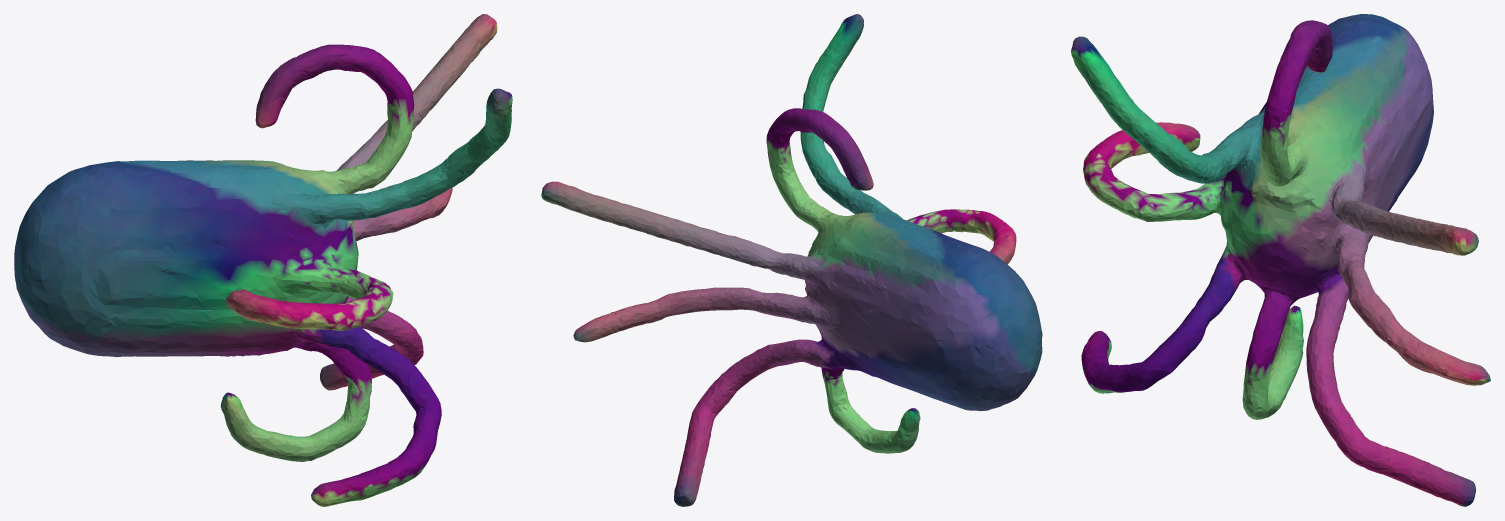
Rendered from octopus-15.off.obj.
The picture shows the model from 3 angles, left to right: view 1: azimuth 30°, elevation 25°; view 2: azimuth 150°, elevation 25°; view 3: azimuth 270°, elevation 25°; orthographic projection. The views are drawn at different scales.
Bounding box in the file's own units: 1.4 × 1.13 × 0.932.
